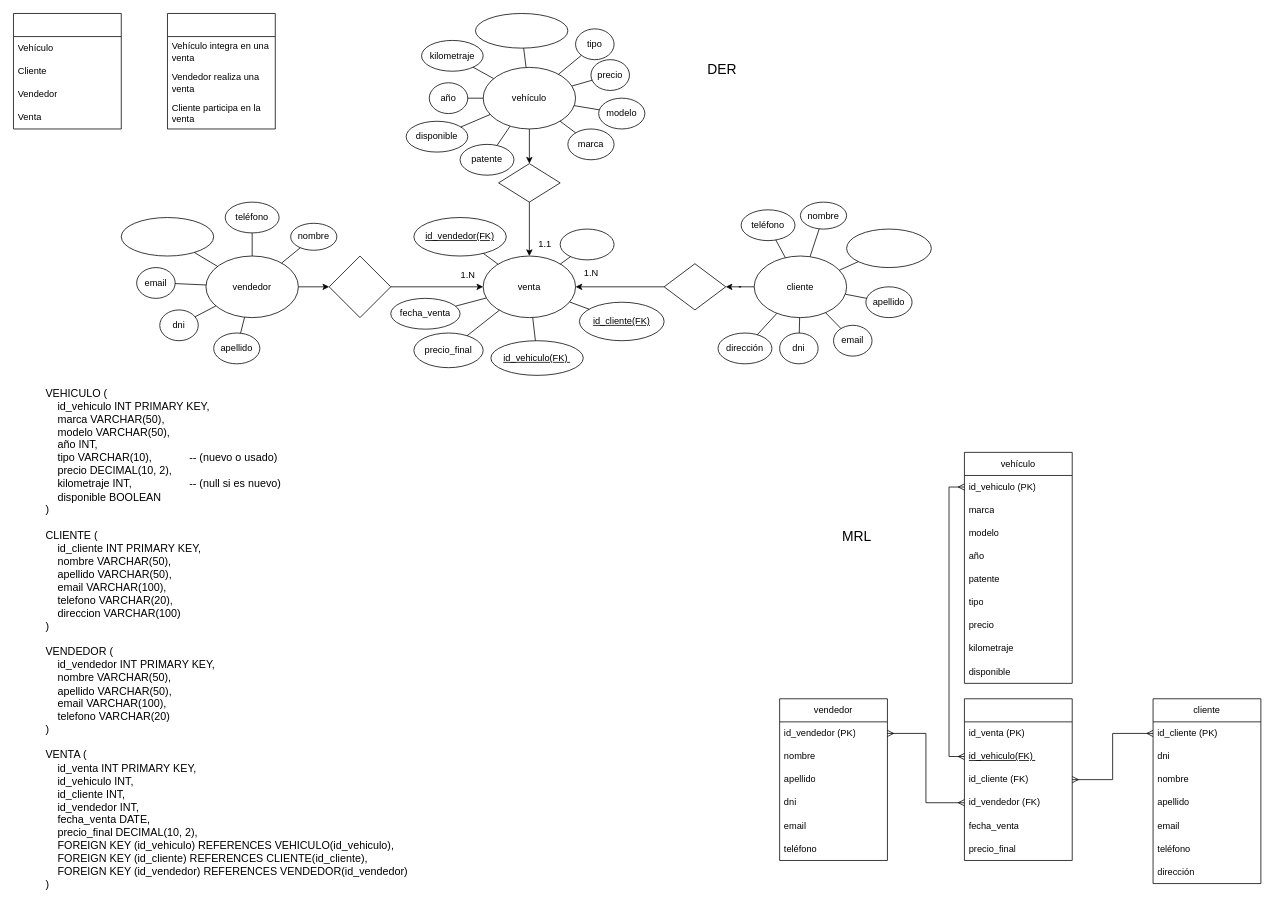
The diagram is 1274 pixels wide and 920 high, and some of its shapes have lost their labels. The box of each missing label's shape, as (x1, y1, x2, y2) in pixels:
ENTIDADES: (13, 13, 121, 129)
id_cliente(PK): (846, 228, 931, 268)
id_vehiculo(PK): (475, 13, 568, 48)
id_vendedor(PK): (121, 217, 214, 256)
id_venta: (559, 228, 614, 260)
Integra: (498, 163, 560, 202)
List: (964, 698, 1072, 860)
Participa: (663, 263, 726, 310)
Realiza: (328, 255, 391, 318)
RELACIONES: (167, 13, 275, 129)
